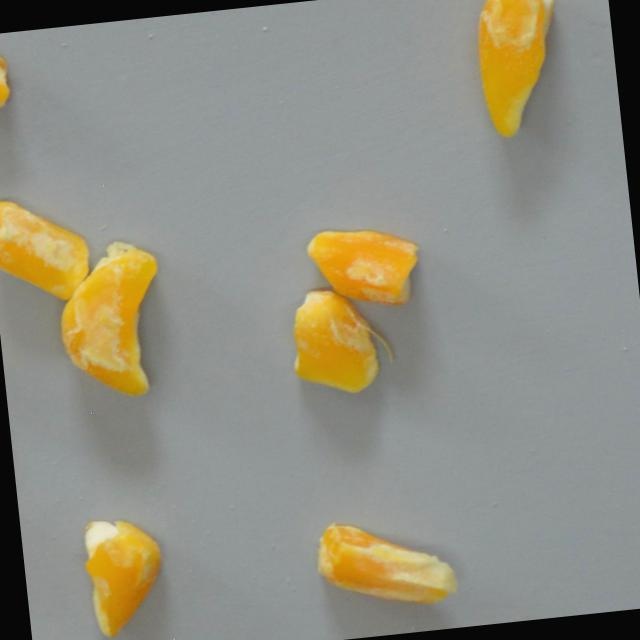pelicula: (28, 258, 192, 377), (423, 9, 596, 106), (338, 490, 434, 638), (284, 286, 398, 402), (53, 530, 181, 628), (315, 203, 407, 325), (0, 189, 80, 315), (0, 31, 13, 121)
